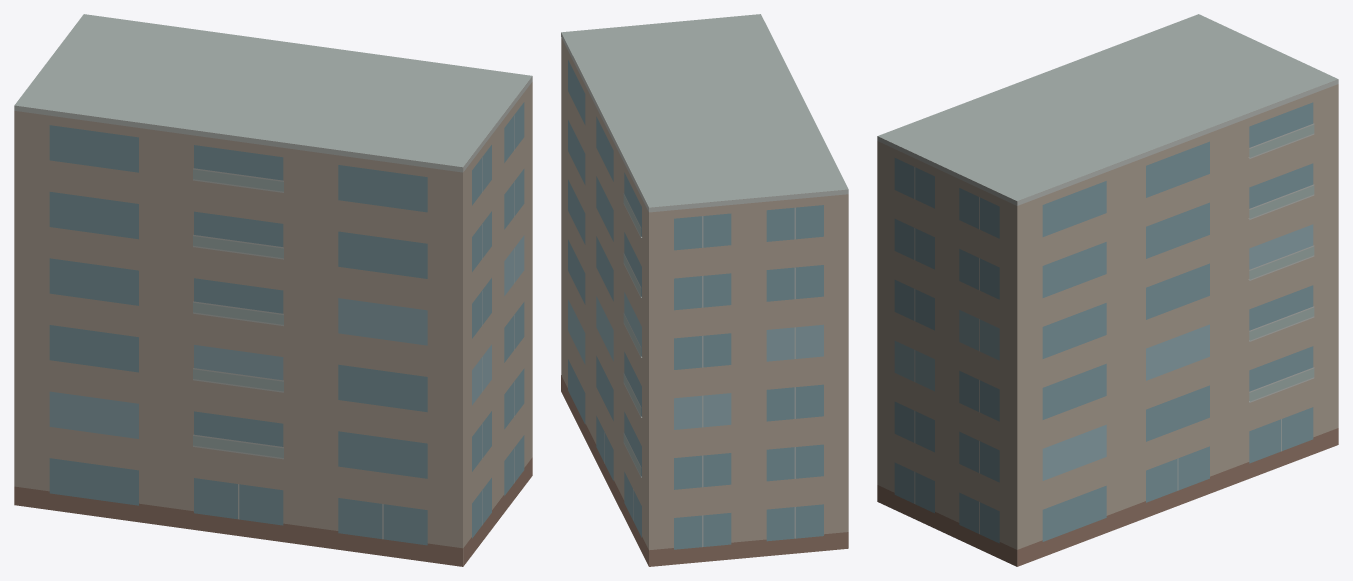
File: survey-upis-32987445.glb
The picture shows the model from 3 angles, left to right: view 1: azimuth 30°, elevation 25°; view 2: azimuth 150°, elevation 25°; view 3: azimuth 270°, elevation 25°; orthographic projection. The views are drawn at different scales.
Parts seen in each view (by area): view 1: survey-upis-32987445.tmp; view 2: survey-upis-32987445.tmp; view 3: survey-upis-32987445.tmp.
Part boxes in pixels (x1,y1,x2,y2): survey-upis-32987445.tmp: [14, 14, 532, 566]; survey-upis-32987445.tmp: [561, 14, 848, 566]; survey-upis-32987445.tmp: [877, 14, 1338, 566].
Bounding box in the file's own units: 20.21 × 18.4 × 21.03.
